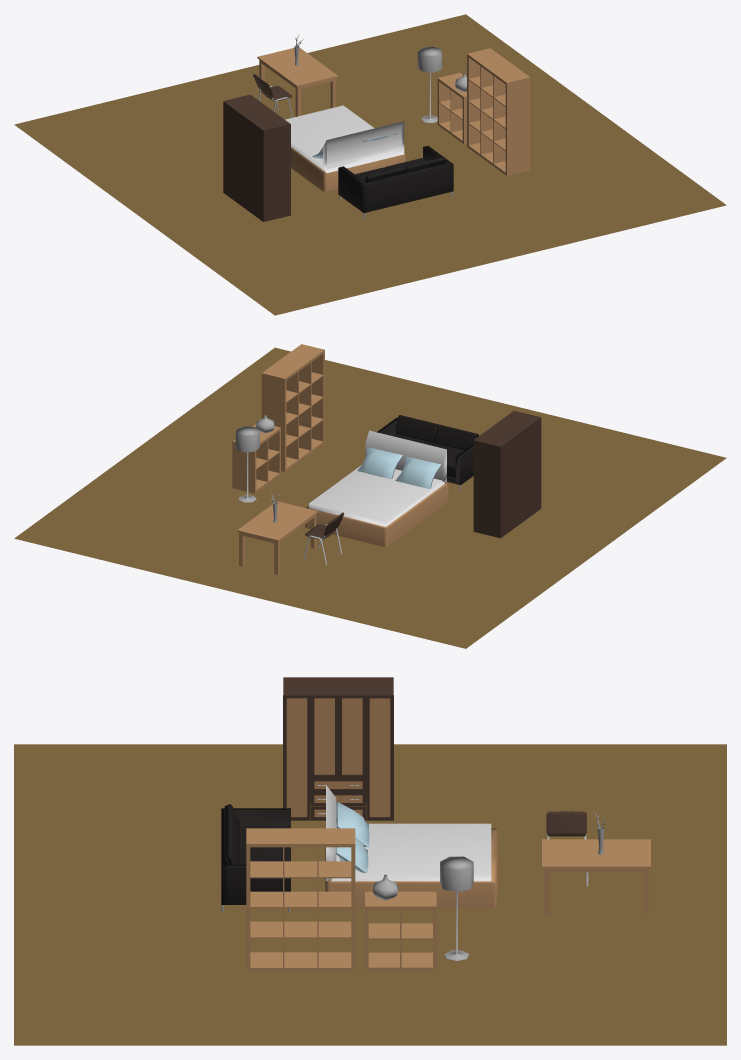
Rendered from test_furniture.fbx.
The picture shows the model from 3 angles, top to bottom: view 1: azimuth 30°, elevation 25°; view 2: azimuth 150°, elevation 25°; view 3: azimuth 270°, elevation 25°; orthographic projection. The views are drawn at different scales.
Parts seen in each view (by area): view 1: floor10, furA_obj_polySurface2, furnitures_0001_rack_7, bed_pCube3, sofabody1, tableA1, furnitures_0001_rack_6, torchereA1, chair_gp2; view 2: floor10, bed_pCube3, furA_obj_polySurface2, furnitures_0001_rack_7, sofabody1, tableA1, furnitures_0001_rack_6, torchereA1, chair_gp2; view 3: floor10, furA_obj_polySurface2, bed_pCube3, furnitures_0001_rack_7, sofabody1, tableA1, furnitures_0001_rack_6, torchereA1, chair_gp2.
Boxes of the visible parts, left/top/right/bottom form: floor10: left=14, top=14, right=726, bottom=315; furA_obj_polySurface2: left=223, top=94, right=290, bottom=221; furnitures_0001_rack_7: left=467, top=48, right=530, bottom=175; bed_pCube3: left=285, top=105, right=405, bottom=191; sofabody1: left=338, top=146, right=453, bottom=212; tableA1: left=257, top=47, right=338, bottom=116; furnitures_0001_rack_6: left=437, top=72, right=466, bottom=143; torchereA1: left=417, top=46, right=441, bottom=123; chair_gp2: left=253, top=74, right=292, bottom=117; floor10: left=14, top=347, right=726, bottom=648; bed_pCube3: left=305, top=430, right=448, bottom=546; furA_obj_polySurface2: left=473, top=410, right=541, bottom=538; furnitures_0001_rack_7: left=261, top=344, right=324, bottom=471; sofabody1: left=377, top=415, right=478, bottom=484; tableA1: left=237, top=501, right=318, bottom=574; furnitures_0001_rack_6: left=232, top=424, right=280, bottom=493; torchereA1: left=235, top=426, right=259, bottom=502; chair_gp2: left=303, top=512, right=343, bottom=564; floor10: left=14, top=744, right=726, bottom=1045; furA_obj_polySurface2: left=283, top=677, right=393, bottom=820; bed_pCube3: left=325, top=785, right=497, bottom=908; furnitures_0001_rack_7: left=246, top=828, right=355, bottom=970; sofabody1: left=221, top=804, right=290, bottom=904; tableA1: left=542, top=839, right=650, bottom=914; furnitures_0001_rack_6: left=365, top=891, right=436, bottom=970; torchereA1: left=440, top=856, right=473, bottom=960; chair_gp2: left=546, top=811, right=588, bottom=886.
Size of the model in its own units: 685 by 139 by 685.
